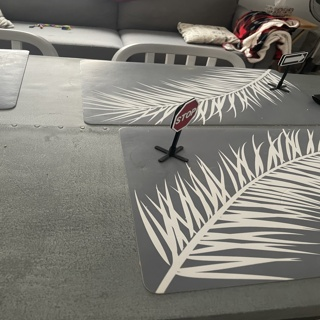sign_stop: (174, 98, 196, 132)
